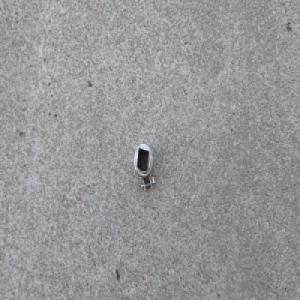MetalPart: (133, 141, 157, 194)
